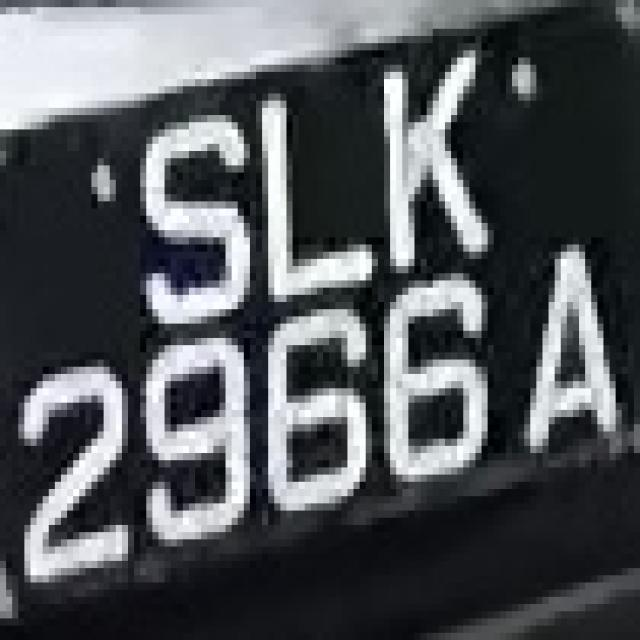2: (24, 360, 122, 618)
6: (378, 274, 500, 504), (250, 288, 366, 525)
9: (134, 331, 268, 568)
A: (506, 216, 628, 460)
K: (359, 36, 494, 237)
L: (250, 79, 366, 309)
S: (128, 79, 250, 338)
